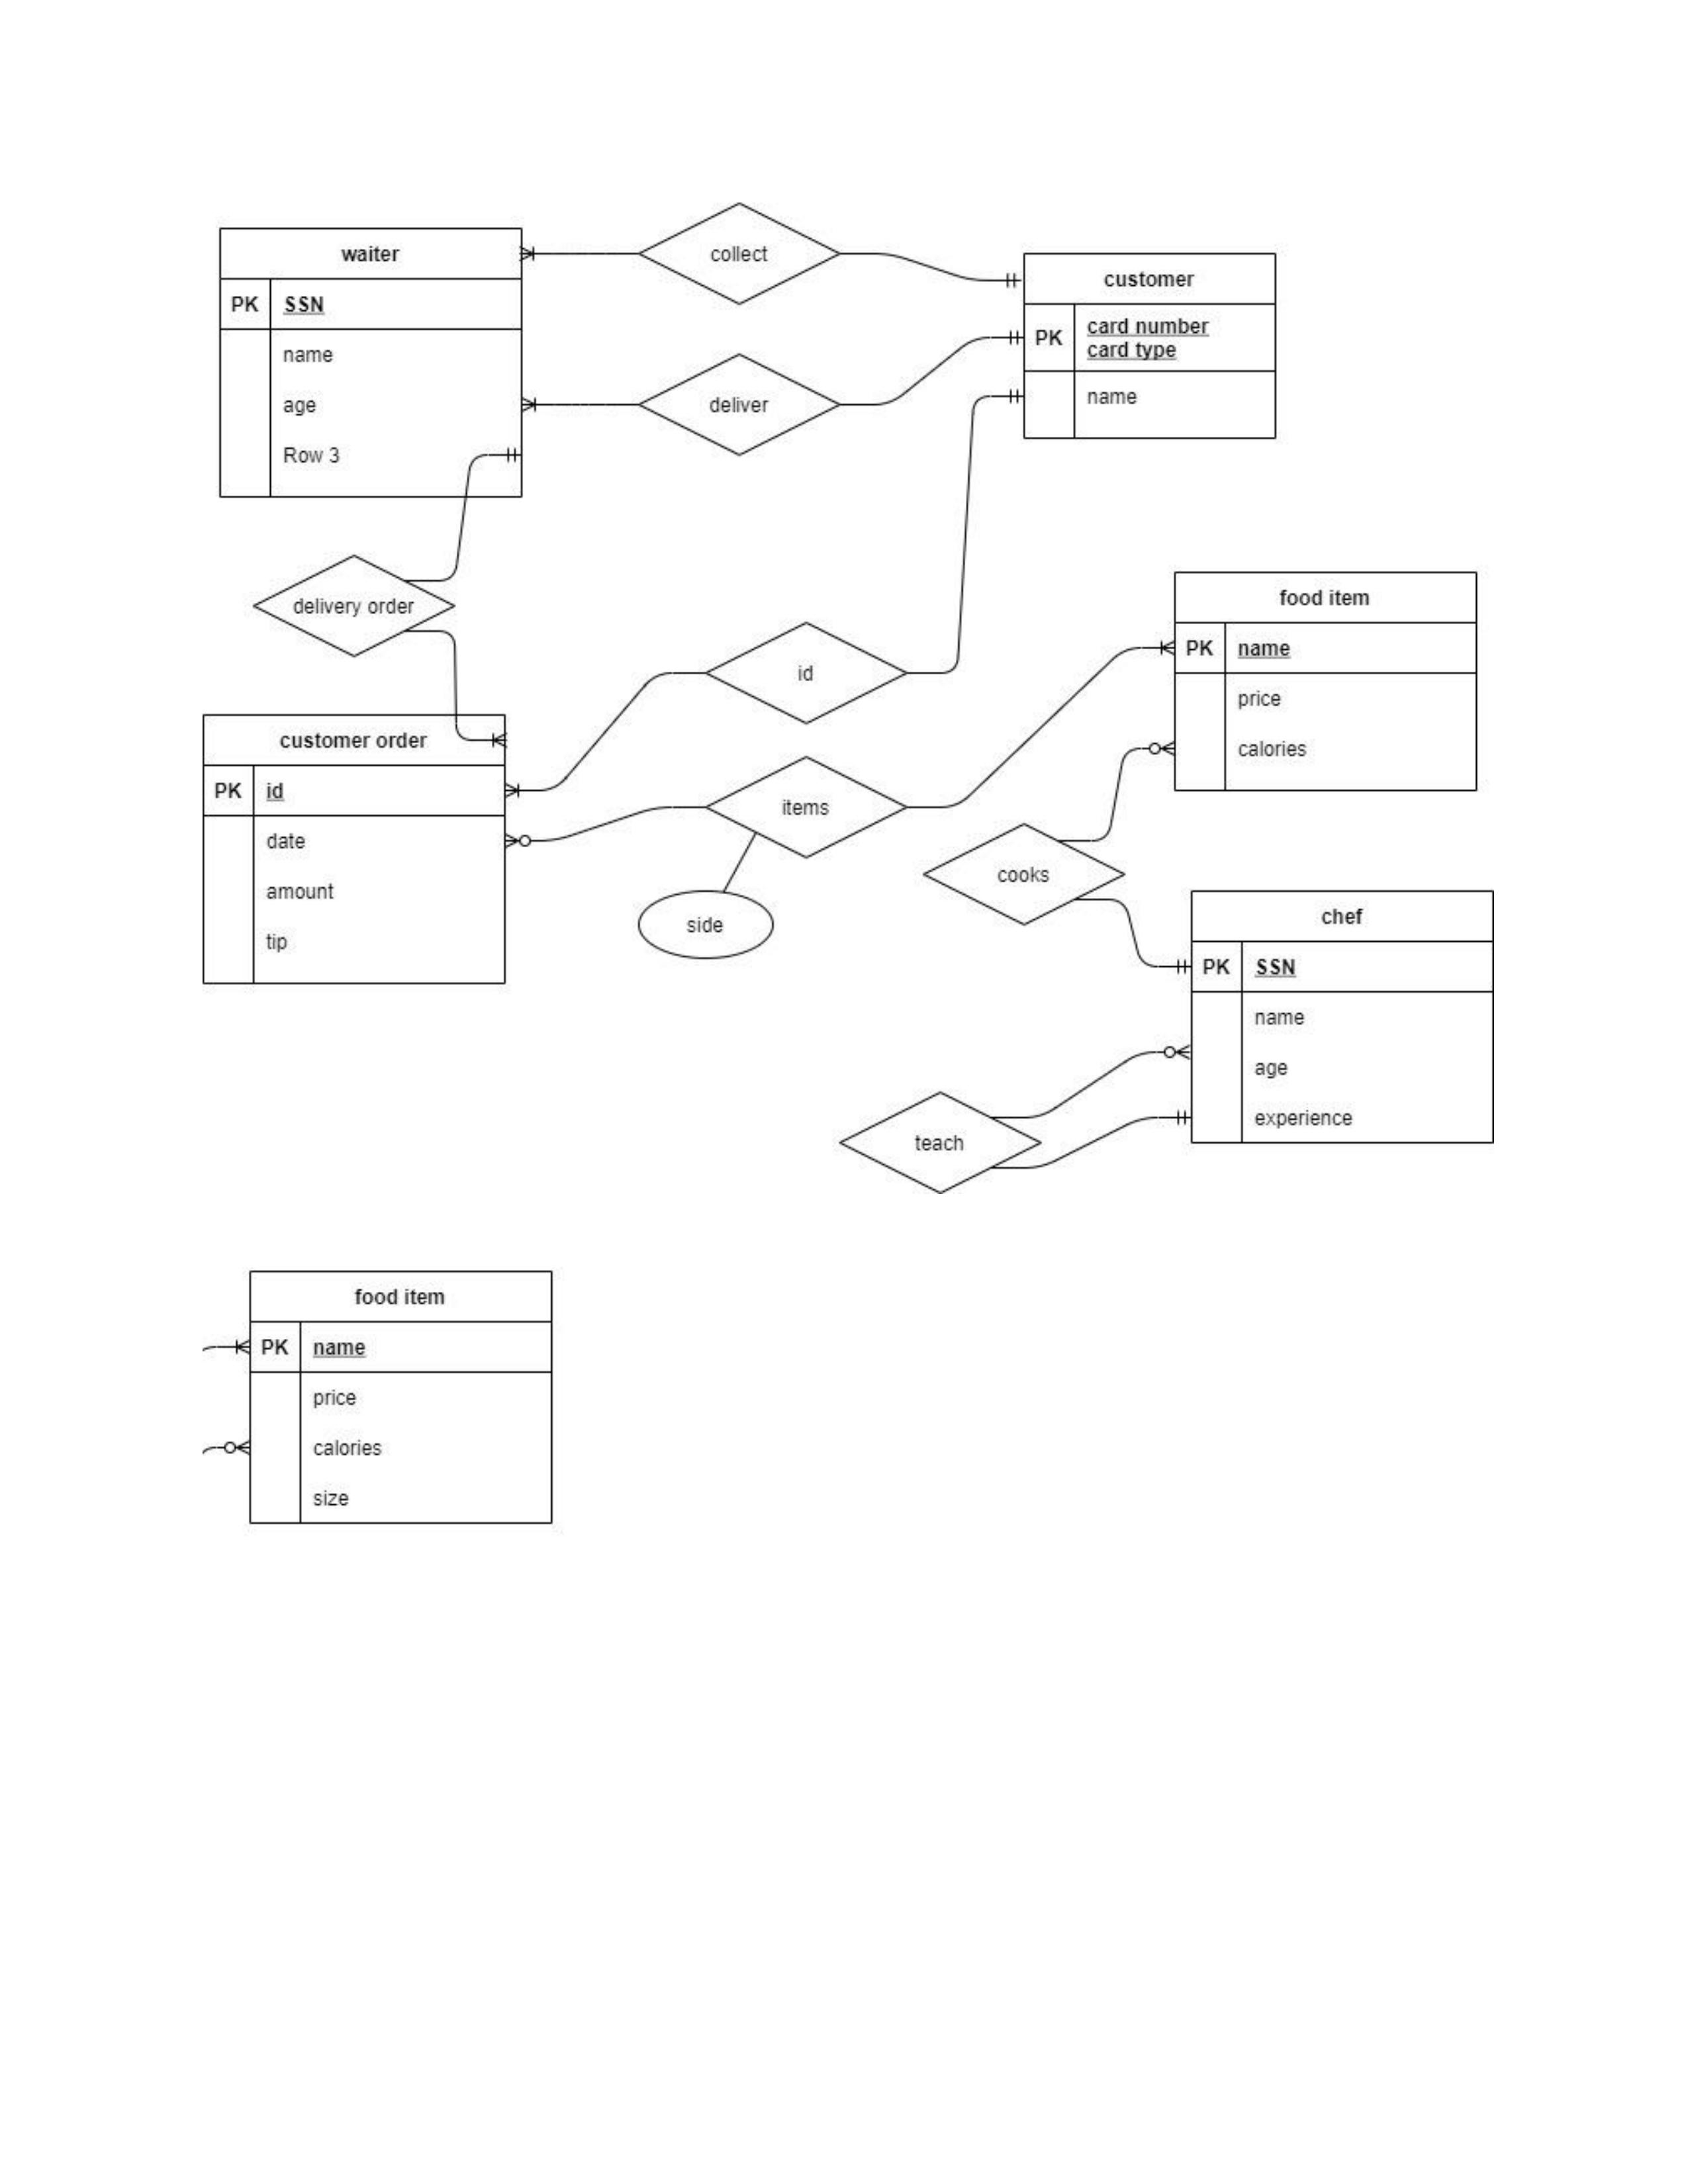Attribute: (635, 890, 777, 961)
Entity: (200, 711, 509, 986), (218, 227, 523, 498), (246, 1267, 557, 1528), (1021, 252, 1278, 440)
Relationship: (250, 553, 457, 658), (638, 353, 840, 457), (839, 1090, 1043, 1193), (706, 757, 908, 860), (922, 823, 1126, 924), (640, 202, 840, 305), (706, 620, 906, 723)
